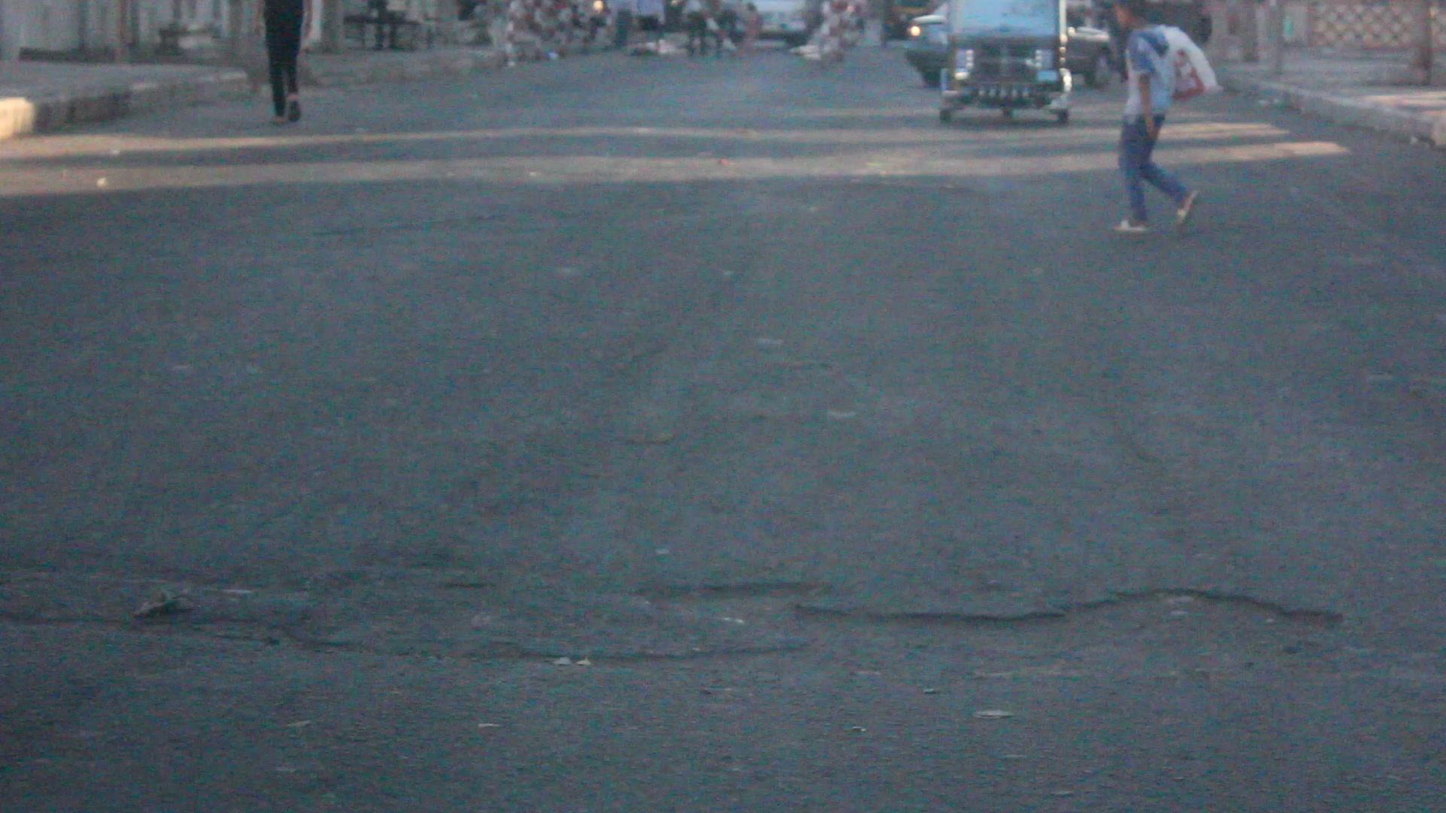Pothole: (4, 565, 1446, 694)
